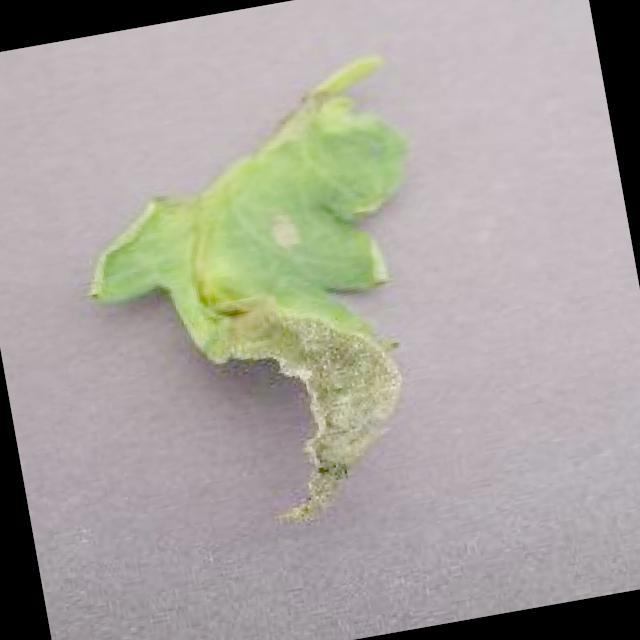Tomato late blight leaf: (50, 53, 472, 552)
